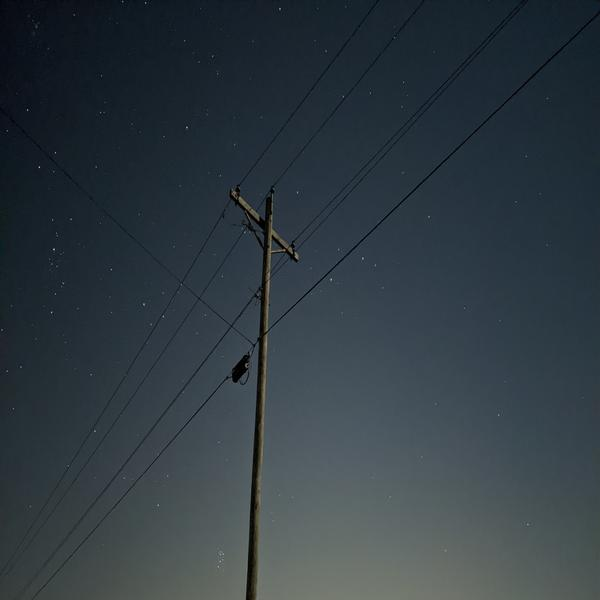utility_pole: (214, 173, 311, 337)
